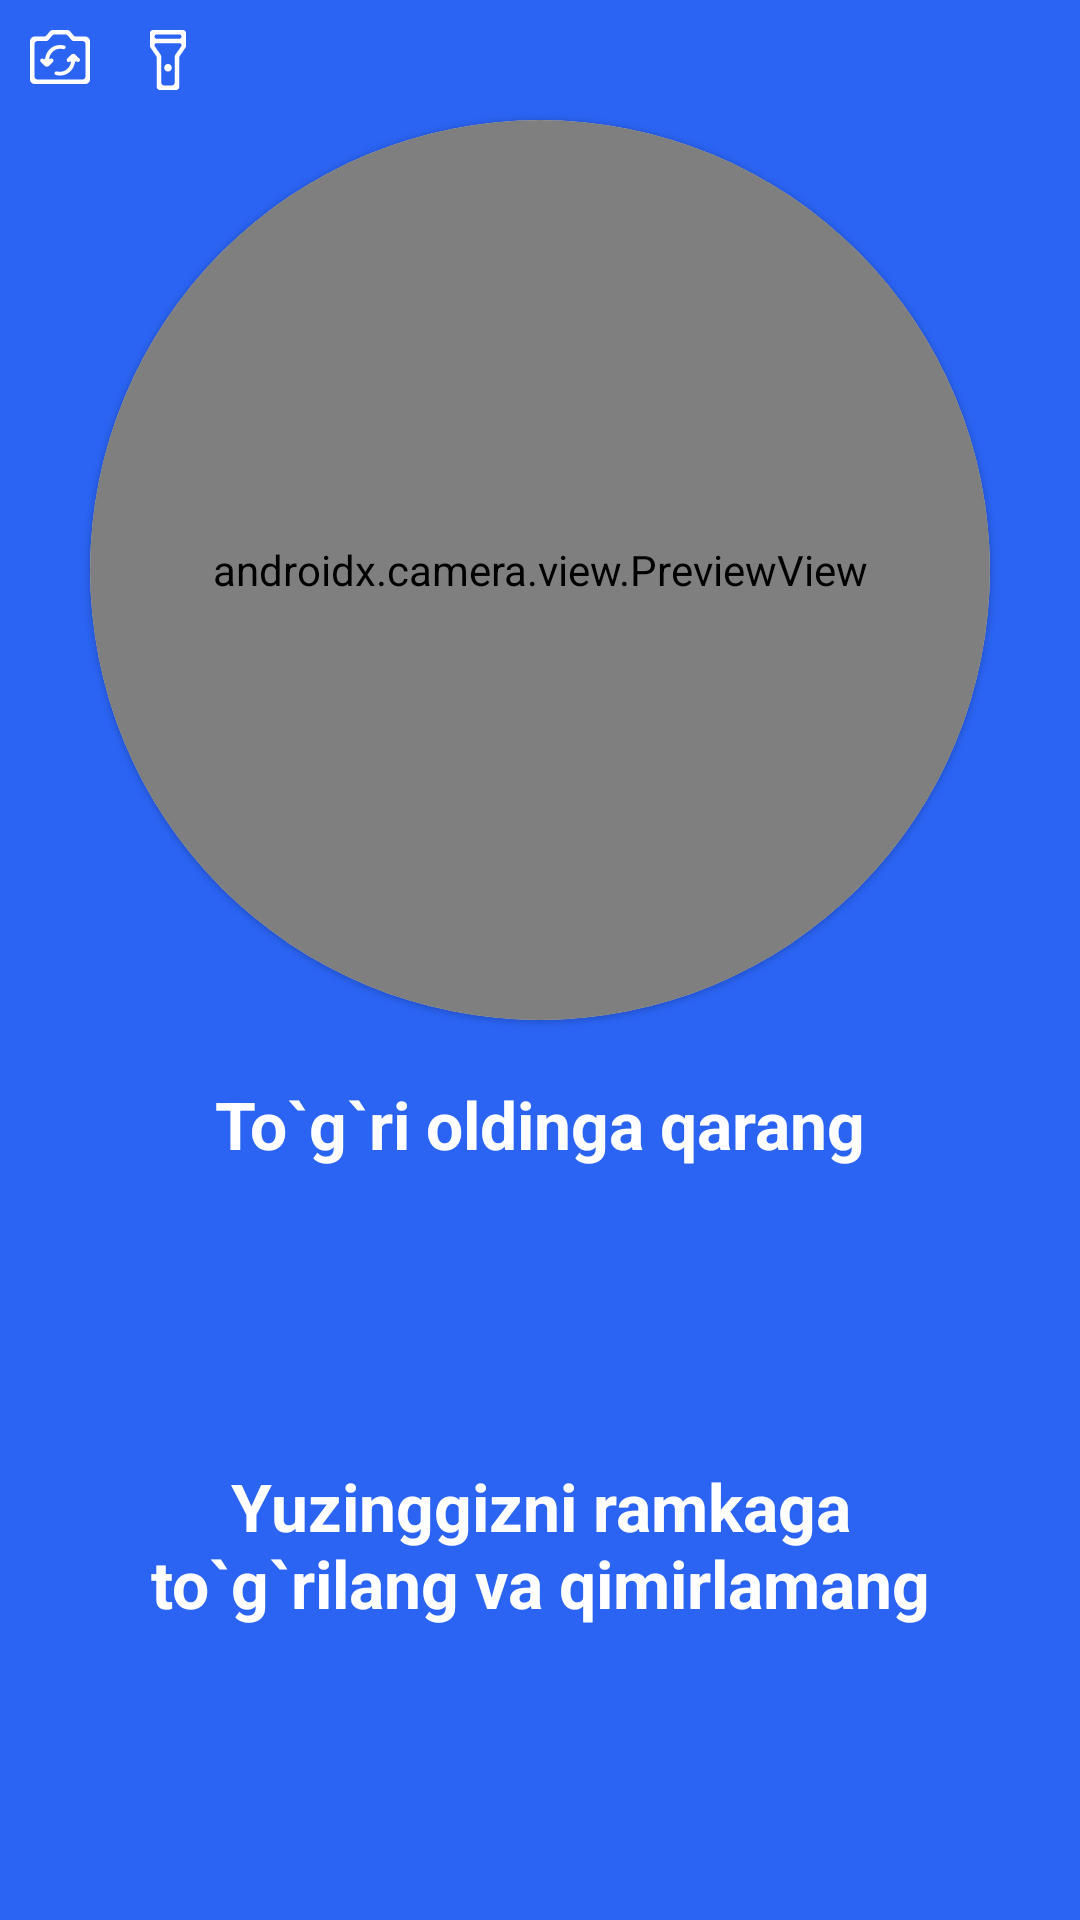

Icon bounding boxes for this 1080 × 1920 phone screenshot, format detection(x1, y1, x2, y2):
flash: detection(150, 30, 186, 90)
